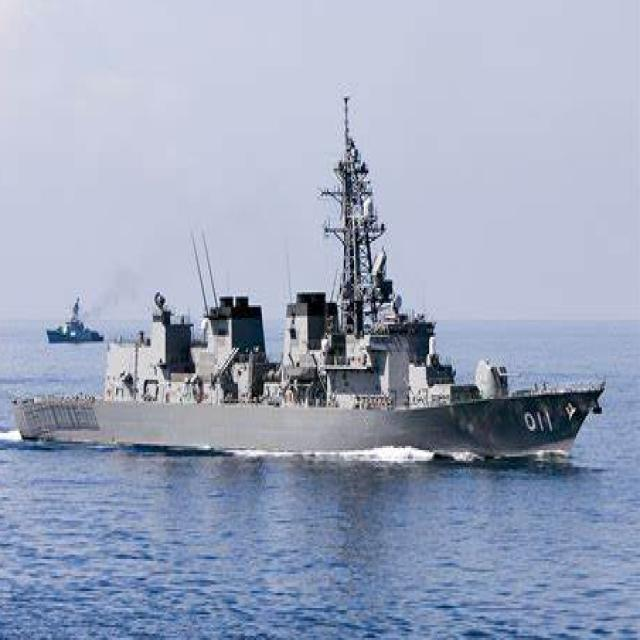navalvessels: (8, 135, 622, 492), (38, 271, 111, 352)
